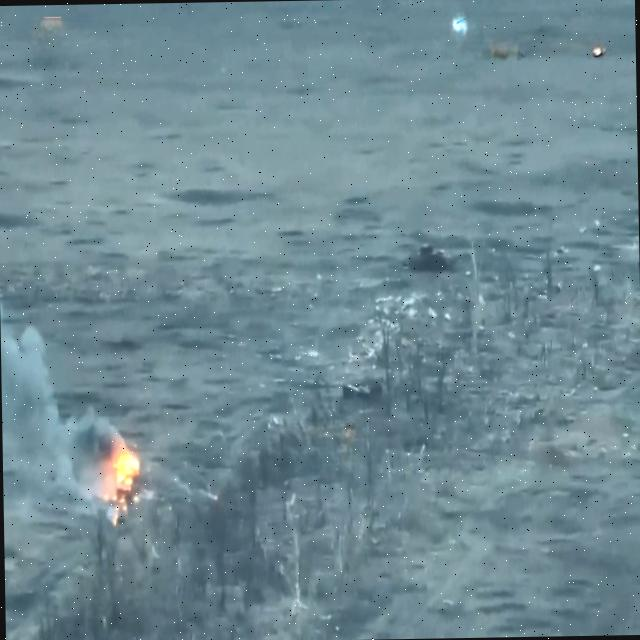Destroyed: (116, 445, 143, 505), (409, 244, 456, 273), (343, 383, 379, 403)
